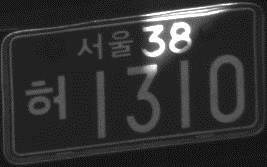0: (209, 53, 246, 125)
1: (91, 69, 111, 140), (176, 57, 195, 130)
3: (125, 61, 162, 134), (141, 23, 165, 56)
8: (169, 21, 193, 54)
서울_O: (75, 28, 134, 61)
허: (23, 72, 70, 120)
